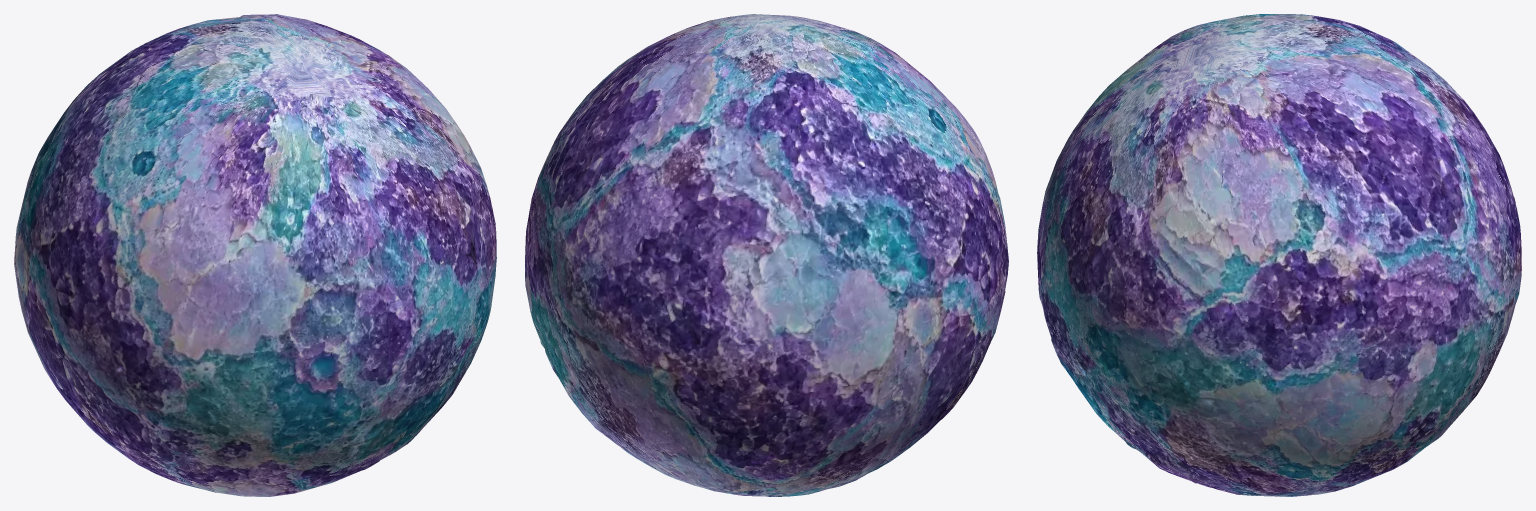
Rendered from planet_9.glb.
3 renders of one model, left to right at view 1: azimuth 30°, elevation 25°; view 2: azimuth 150°, elevation 25°; view 3: azimuth 270°, elevation 25°, orthographic.
Visible parts, largest first — view 1: Mesh_0.001; view 2: Mesh_0.001; view 3: Mesh_0.001.
Boxes of the visible parts, <box> form: Mesh_0.001: <box>14,14,496,496</box>; Mesh_0.001: <box>525,14,1008,496</box>; Mesh_0.001: <box>1037,14,1521,496</box>.
Size of the model in its own units: 1.9 by 1.9 by 1.9.
1 material, 1 textured.
